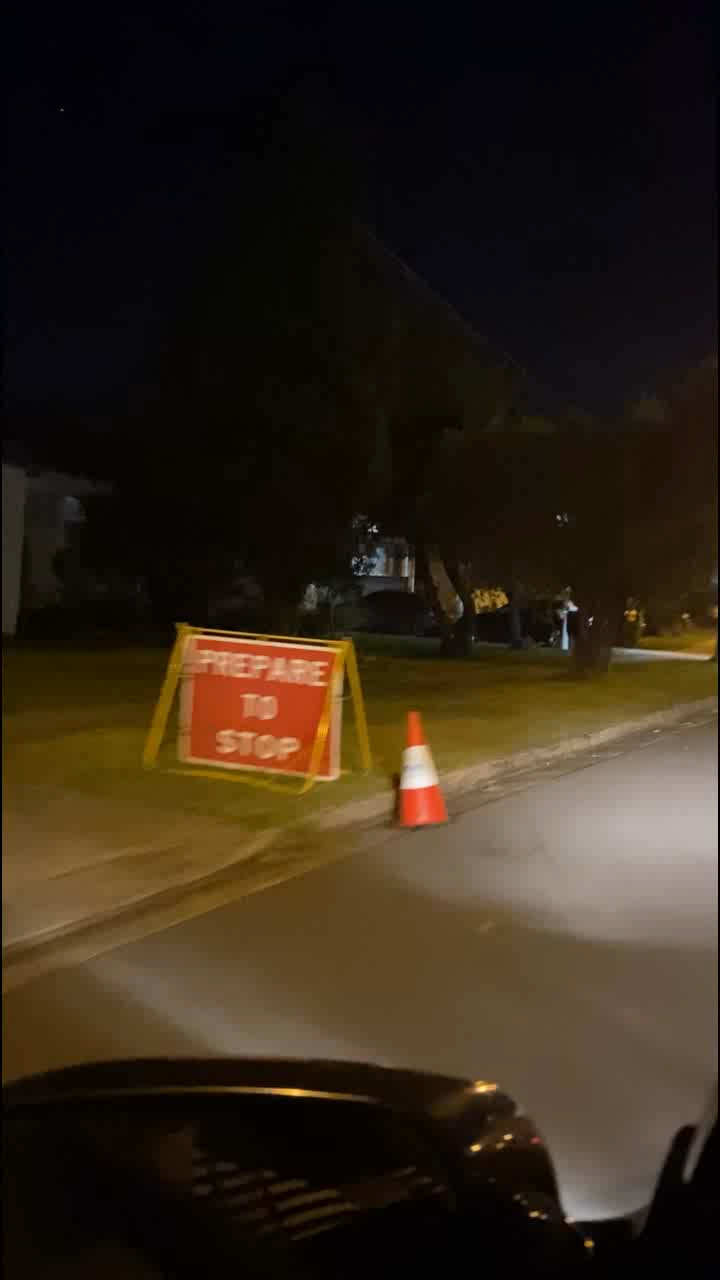prepare to stop board: (154, 633, 347, 780)
road cone: (397, 713, 462, 832)
